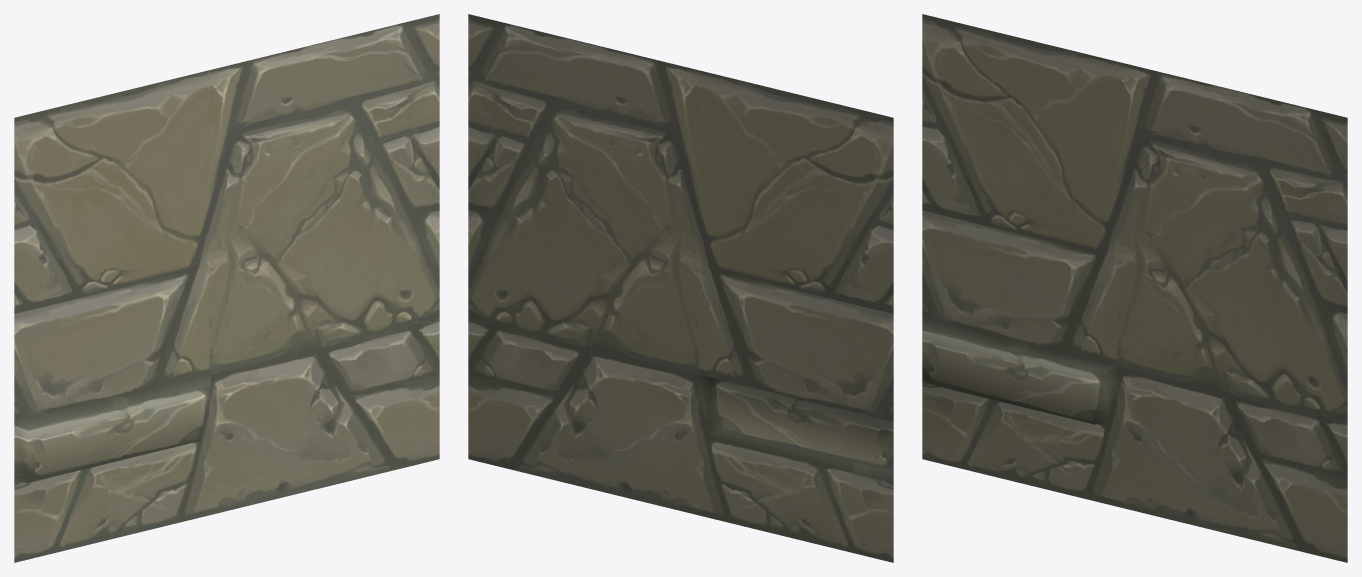
Rendered from wall4.fbx.
3 views of the same model, side by side, from view 1: azimuth 30°, elevation 25°; view 2: azimuth 150°, elevation 25°; view 3: azimuth 330°, elevation 25° (orthographic).
Parts seen in each view (by area): view 1: wall5; view 2: wall5; view 3: wall5.
Boxes of the visible parts, left/top/right/bottom form: wall5: left=14, top=14, right=439, bottom=562; wall5: left=468, top=14, right=893, bottom=562; wall5: left=922, top=14, right=1347, bottom=562.
Bounding box in the file's own units: 2 × 2 × 0.0556.
